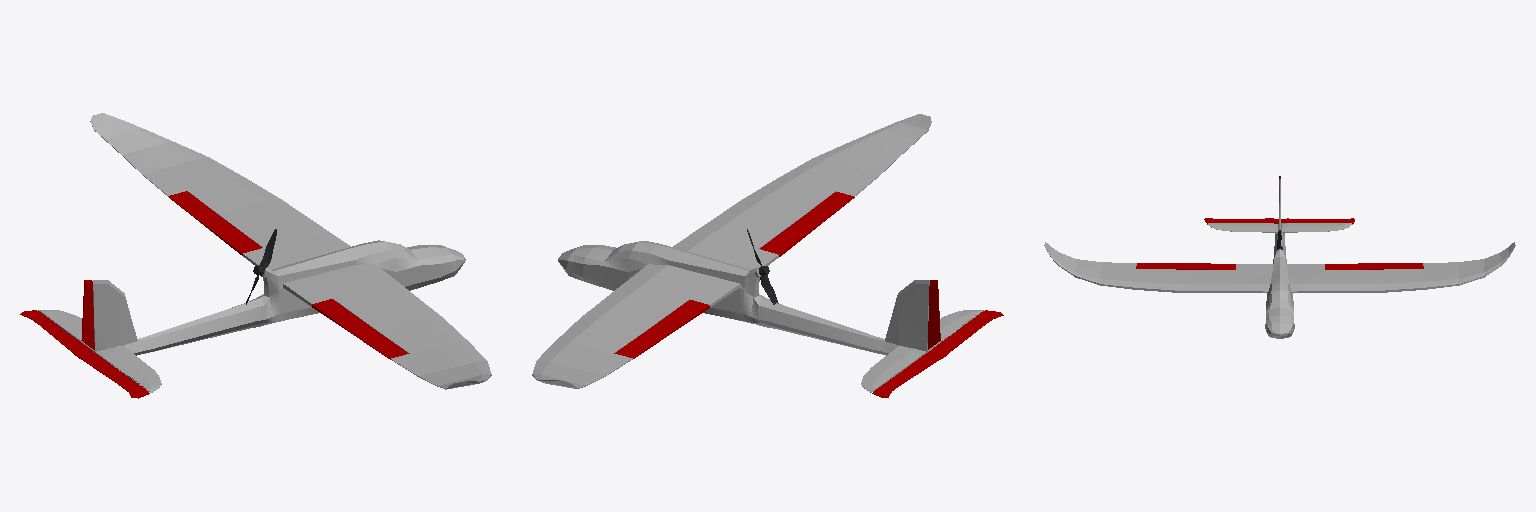
robot.urdf — drone:
<robot name="drone">
 <material name="grey">
  <color rgba="0.7 0.7 0.7 1" />
 </material>
 <material name="red">
  <color rgba="0.7 0 0 1" />
 </material>
 <material name="black">
  <color rgba="0.2 0.2 0.2 1" />
 </material>
 <link name="root_link">
  <inertial>
   <origin rpy="0 0 0" xyz="0 0 0" />
   <mass value="0" />
   <inertia ixx="0" ixy="0" ixz="0" iyy="0" iyz="0" izz="0" />
  </inertial>
 </link>
 <joint name="fixed_joint_base_fuselage" type="fixed">
  <parent link="root_link" />
  <child link="fuselage" />
  <origin rpy="3.141592653589793 0 0" xyz="0 0 0" />
 </joint>
 <link name="fuselage">
  <inertial>
   <origin rpy="0 0 0" xyz="-0.32 0 -0.02" />
   <mass value="0.875" />
   <inertia ixx="0.05" ixy="0" ixz="0" iyy="0.05" iyz="0" izz="0.096" />
  </inertial>
  <visual>
   <origin rpy="0 0 0" xyz="0 0 0" />
   <geometry>
    <mesh filename="package://ros_muav/meshes/fixed_wing_fuselage.stl" scale="0.001 0.001 0.001" />
   </geometry>
   <material name="grey" />
  </visual>
 </link>
 <joint name="fixed_joint_aero_frame_fuselage" type="fixed">
  <parent link="fuselage" />
  <child link="aero_frame_fuselage" />
  <origin rpy="0 3.141592653589793 0" xyz="-0.32 0 -0.02" />
 </joint>
 <link name="aero_frame_fuselage" />
 <joint name="fixed_joint_aileron_wing" type="fixed">
  <parent link="fuselage" />
  <child link="fuselage_aileron_0" />
  <origin rpy="0 0 0" xyz="-0.364 -0.275 -0.042" />
 </joint>
 <link name="fuselage_aileron_0">
  <inertial>
   <mass value="0.018" />
   <origin rpy="0 0 0" xyz="0 0 0" />
   <inertia ixx="2.13e-06" ixy="0" ixz="0" iyy="2.13e-06" iyz="0" izz="2.13e-06" />
  </inertial>
 </link>
 <joint name="joint_0__aileron_wing" type="revolute">
  <parent link="fuselage_aileron_0" />
  <child link="aileron_wing" />
  <origin rpy="0 0 0" xyz="0 0 0" />
  <axis xyz="0 1 0" />
  <limit effort="0.26" lower="-0.3490658503988659" upper="0.3490658503988659" velocity="5.4" />
  <dynamics damping="1" friction="0" />
 </joint>
 <link name="aileron_wing">
  <inertial>
   <origin rpy="0 0 0" xyz="-0.02 0 0" />
   <mass value="0.013" />
   <inertia ixx="9e-05" ixy="0" ixz="0" iyy="2e-06" iyz="0" izz="9e-05" />
  </inertial>
  <visual>
   <origin rpy="0 0 0" xyz="0 0 0" />
   <geometry>
    <mesh filename="package://ros_muav/meshes/fixed_wing_left_aileron.stl" scale="0.001 0.001 0.001" />
   </geometry>
   <material name="red" />
  </visual>
 </link>
 <joint name="fixed_joint_right_aileron_wing" type="fixed">
  <parent link="fuselage" />
  <child link="fuselage_right_aileron_0" />
  <origin rpy="0 0 0" xyz="-0.364 0.275 -0.042" />
 </joint>
 <link name="fuselage_right_aileron_0">
  <inertial>
   <mass value="0" />
   <origin rpy="0 0 0" xyz="0 0 0" />
   <inertia ixx="0" ixy="0" ixz="0" iyy="0" iyz="0" izz="0" />
  </inertial>
 </link>
 <joint name="joint_0_fixed_right_aileron_wing" type="fixed">
  <parent link="fuselage_right_aileron_0" />
  <child link="right_aileron_wing" />
  <origin rpy="0 0 0" xyz="0 0 0" />
  <axis xyz="0 0 0" />
 </joint>
 <link name="right_aileron_wing">
  <inertial>
   <origin rpy="0 0 0" xyz="-0.02 0 0" />
   <mass value="0.013" />
   <inertia ixx="9e-05" ixy="0" ixz="0" iyy="2e-06" iyz="0" izz="9e-05" />
  </inertial>
  <visual>
   <origin rpy="0 0 0" xyz="0 0 0" />
   <geometry>
    <mesh filename="package://ros_muav/meshes/fixed_wing_right_aileron.stl" scale="0.001 0.001 0.001" />
   </geometry>
   <material name="red" />
  </visual>
 </link>
 <joint name="fixed_joint_rudder_wing" type="fixed">
  <parent link="fuselage" />
  <child link="fuselage_rudder_0" />
  <origin rpy="0 0 0" xyz="-0.82 0 0.01" />
 </joint>
 <link name="fuselage_rudder_0">
  <inertial>
   <mass value="0.018" />
   <origin rpy="0 0 0" xyz="0 0 0" />
   <inertia ixx="2.13e-06" ixy="0" ixz="0" iyy="2.13e-06" iyz="0" izz="2.13e-06" />
  </inertial>
 </link>
 <joint name="joint_0__rudder_wing" type="revolute">
  <parent link="fuselage_rudder_0" />
  <child link="rudder_wing" />
  <origin rpy="0 0 0" xyz="0 0 0" />
  <axis xyz="0 0 1" />
  <limit effort="0.26" lower="-0.3490658503988659" upper="0.3490658503988659" velocity="5.4" />
  <dynamics damping="1" friction="0" />
 </joint>
 <link name="rudder_wing">
  <inertial>
   <origin rpy="0 0 0" xyz="-0.013 0 -0.075" />
   <mass value="0.003" />
   <inertia ixx="6e-06" ixy="0" ixz="0" iyy="6e-06" iyz="0" izz="2e-05" />
  </inertial>
  <visual>
   <origin rpy="0 0 0" xyz="0 0 0" />
   <geometry>
    <mesh filename="package://ros_muav/meshes/fixed_wing_rudder.stl" scale="0.001 0.001 0.001" />
   </geometry>
   <material name="red" />
  </visual>
 </link>
 <joint name="fixed_joint_elevator_wing" type="fixed">
  <parent link="fuselage" />
  <child link="fuselage_elevator_0" />
  <origin rpy="0 0 0" xyz="-0.82 0 0.015" />
 </joint>
 <link name="fuselage_elevator_0">
  <inertial>
   <mass value="0.018" />
   <origin rpy="0 0 0" xyz="0 0 0" />
   <inertia ixx="2.13e-06" ixy="0" ixz="0" iyy="2.13e-06" iyz="0" izz="2.13e-06" />
  </inertial>
 </link>
 <joint name="joint_0__elevator_wing" type="revolute">
  <parent link="fuselage_elevator_0" />
  <child link="elevator_wing" />
  <origin rpy="0 0 0" xyz="0 0 0" />
  <axis xyz="0 1 0" />
  <limit effort="0.26" lower="-0.3490658503988659" upper="0.3490658503988659" velocity="5.4" />
  <dynamics damping="1" friction="0" />
 </joint>
 <link name="elevator_wing">
  <inertial>
   <origin rpy="0 0 0" xyz="-0.02 0 0" />
   <mass value="0.014" />
   <inertia ixx="0.0002" ixy="0" ixz="0" iyy="2e-06" iyz="0" izz="0.0002" />
  </inertial>
  <visual>
   <origin rpy="0 0 0" xyz="0 0 0" />
   <geometry>
    <mesh filename="package://ros_muav/meshes/fixed_wing_elevator.stl" scale="0.001 0.001 0.001" />
   </geometry>
   <material name="red" />
  </visual>
 </link>
 <joint name="fixed_joint_prop_frame_fuselage" type="fixed">
  <parent link="fuselage" />
  <child link="prop_frame_fuselage" />
  <origin rpy="3.141592653589793 -2.007128639793479 0" xyz="-0.458 0.0 -0.076" />
 </joint>
 <link name="prop_frame_fuselage">
  <inertial>
   <mass value="0.04" />
   <origin rpy="0 0 0" xyz="0 0 0" />
   <inertia ixx="3.7625e-05" ixy="0" ixz="0" iyy="3.7625e-05" iyz="0" izz="7.5e-05" />
  </inertial>
  <visual>
   <origin rpy="0 0 0" xyz="0 0 0" />
   <geometry>
    <mesh filename="package://ros_muav/meshes/propeller.stl" scale="0.001 0.001 0.001" />
   </geometry>
   <material name="black" />
  </visual>
 </link>
 <joint name="fixed_joint_collision_0" type="fixed">
  <parent link="fuselage" />
  <child link="collision_frame_0" />
  <origin rpy="0 0 0" xyz="0 0 0" />
 </joint>
 <link name="collision_frame_0" />
 <joint name="fixed_joint_collision_1" type="fixed">
  <parent link="fuselage" />
  <child link="collision_frame_1" />
  <origin rpy="0 0 0" xyz="-0.850 0 0" />
 </joint>
 <link name="collision_frame_1" />
 <joint name="fixed_joint_collision_2" type="fixed">
  <parent link="fuselage" />
  <child link="collision_frame_2" />
  <origin rpy="0 0 0" xyz="-0.410 0.700 -0.100" />
 </joint>
 <link name="collision_frame_2" />
 <joint name="fixed_joint_collision_3" type="fixed">
  <parent link="fuselage" />
  <child link="collision_frame_3" />
  <origin rpy="0 0 0" xyz="-0.410 -0.700 -0.100" />
 </joint>
 <link name="collision_frame_3" />
</robot>

--- Render facts (derived) ---
Views: 3 orthographic renders of the robot side by side, from view 1: azimuth 30°, elevation 25°; view 2: azimuth 150°, elevation 25°; view 3: azimuth 270°, elevation 25°.
Model drone with 16 links and 15 joints (3 revolute, 12 fixed), rooted at root_link, posed every joint at zero.
Links seen in each view (by area): view 1: fuselage, elevator_wing, aileron_wing, right_aileron_wing, rudder_wing; view 2: fuselage, elevator_wing, right_aileron_wing, aileron_wing, rudder_wing; view 3: fuselage, right_aileron_wing, elevator_wing, aileron_wing.
Link boxes in pixels (box(x1,y1,x2,y2)): fuselage: box(38, 113, 491, 392); elevator_wing: box(20, 310, 149, 398); aileron_wing: box(168, 191, 261, 255); right_aileron_wing: box(312, 299, 408, 359); rudder_wing: box(81, 280, 94, 349); fuselage: box(532, 114, 983, 392); elevator_wing: box(872, 310, 1003, 397); right_aileron_wing: box(760, 192, 854, 256); aileron_wing: box(614, 300, 709, 358); rudder_wing: box(928, 280, 940, 349); fuselage: box(1044, 179, 1515, 338); right_aileron_wing: box(1136, 263, 1235, 269); elevator_wing: box(1204, 218, 1354, 223); aileron_wing: box(1325, 263, 1423, 269).
Size in the robot's own frame: 0.8623 by 1.41 by 0.2012 metres.
Meshes: 6 distinct files referenced, 6 mesh visuals loaded (6 binary STL).
